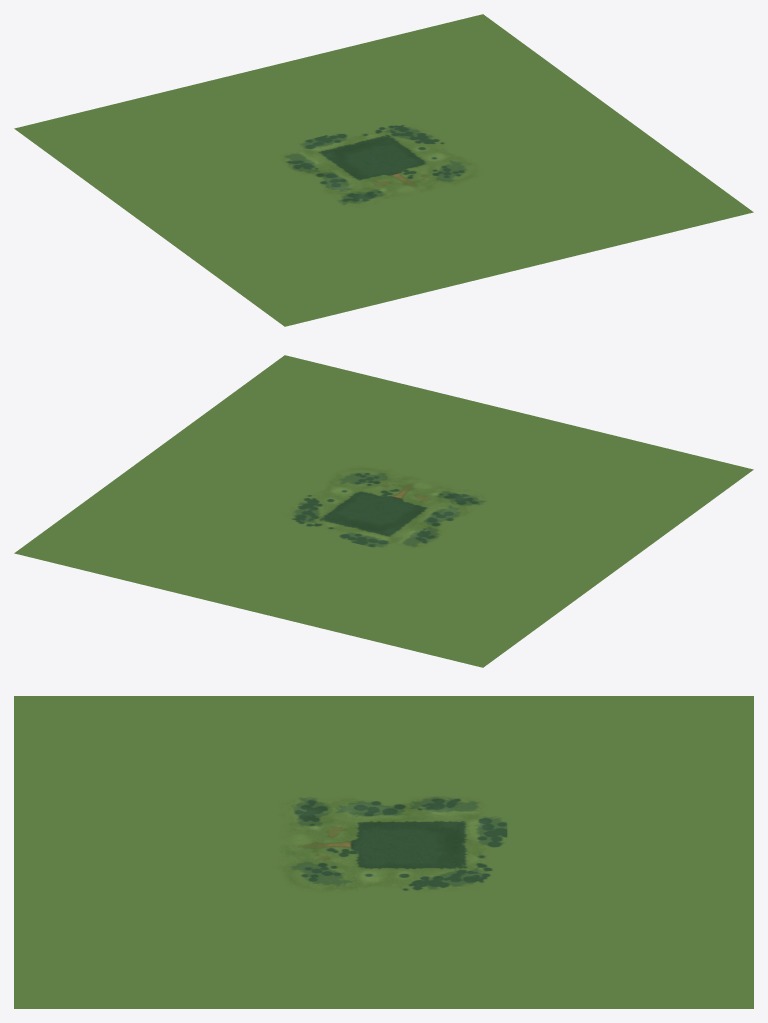
Rendered from Room_Interior_11x11_Bottom.FBX.
3 renders of one model, top to bottom at view 1: azimuth 30°, elevation 25°; view 2: azimuth 150°, elevation 25°; view 3: azimuth 270°, elevation 25°, orthographic. The views are drawn at different scales.
Visible parts, largest first — view 1: Room_Interior_11x11_Bottom; view 2: Room_Interior_11x11_Bottom; view 3: Room_Interior_11x11_Bottom.
Boxes of the visible parts, x1,y1,x2,y2 form: Room_Interior_11x11_Bottom: (14,14,753,326); Room_Interior_11x11_Bottom: (14,355,753,667); Room_Interior_11x11_Bottom: (14,696,753,1008).
Size of the model in its own units: 84.38 by 0.9004 by 84.38.
